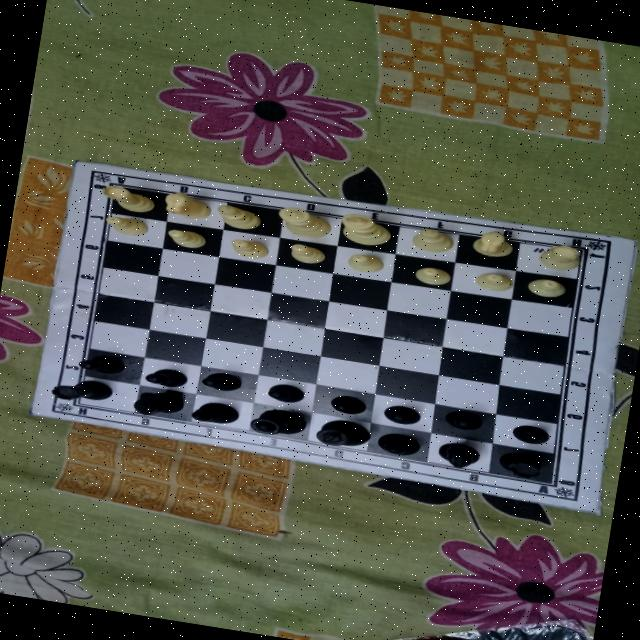corners: (15, 400, 69, 430), (59, 154, 107, 180), (606, 228, 640, 255), (572, 498, 609, 519)
